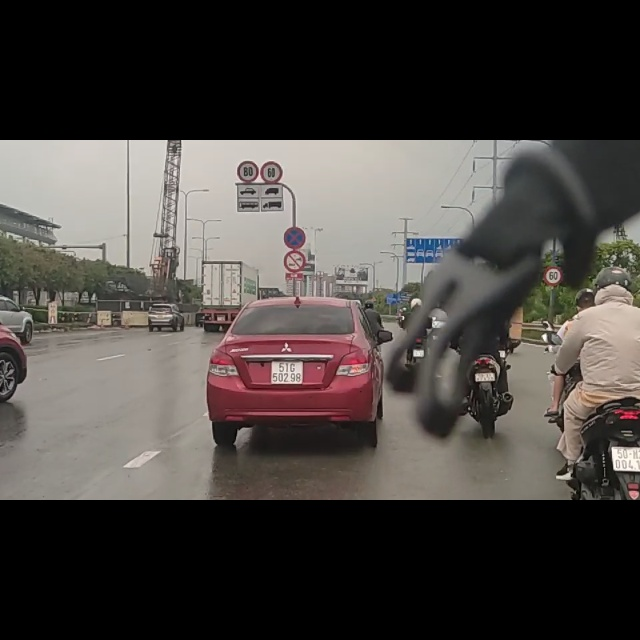bien_cam: (260, 38, 283, 77), (283, 154, 306, 192), (237, 37, 258, 76)
